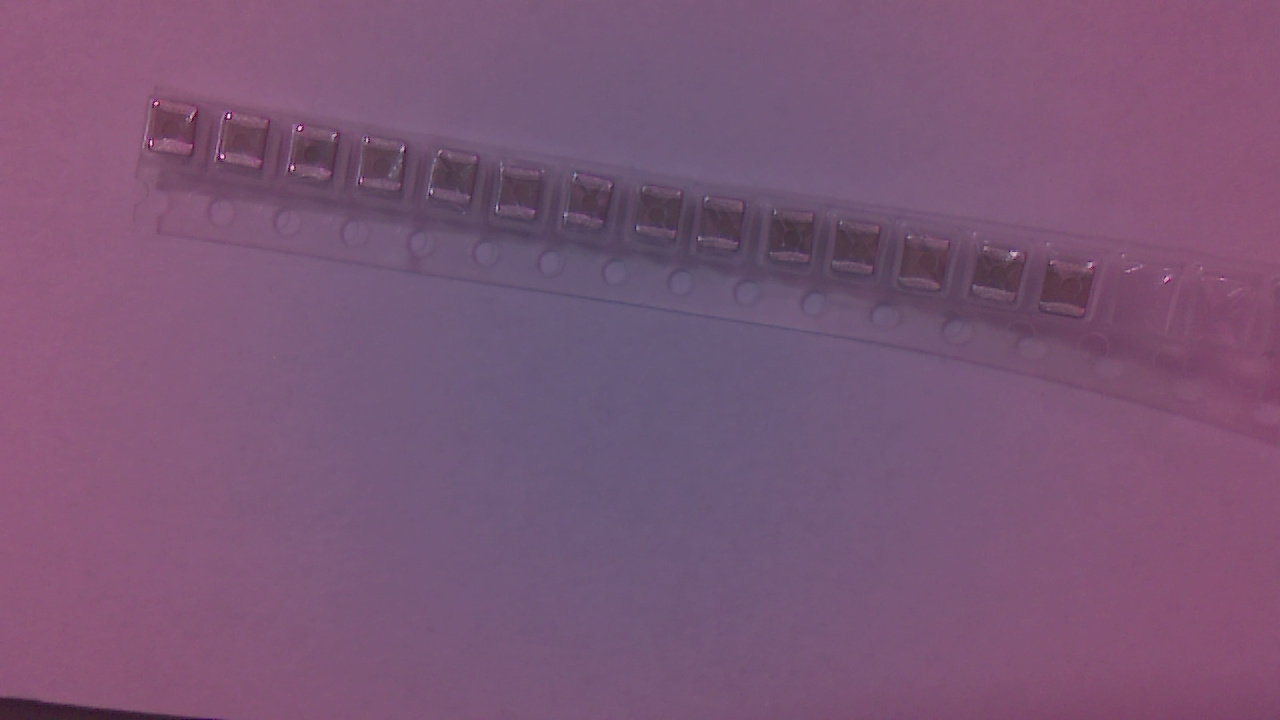Condensator: (358, 139, 415, 204), (148, 102, 207, 162), (901, 235, 956, 299), (289, 128, 347, 188), (1043, 263, 1100, 324), (834, 223, 888, 286), (431, 151, 484, 215), (973, 248, 1033, 304), (566, 179, 623, 236), (222, 113, 277, 172), (498, 164, 548, 228), (699, 199, 754, 254), (639, 189, 691, 245), (770, 214, 819, 271)
